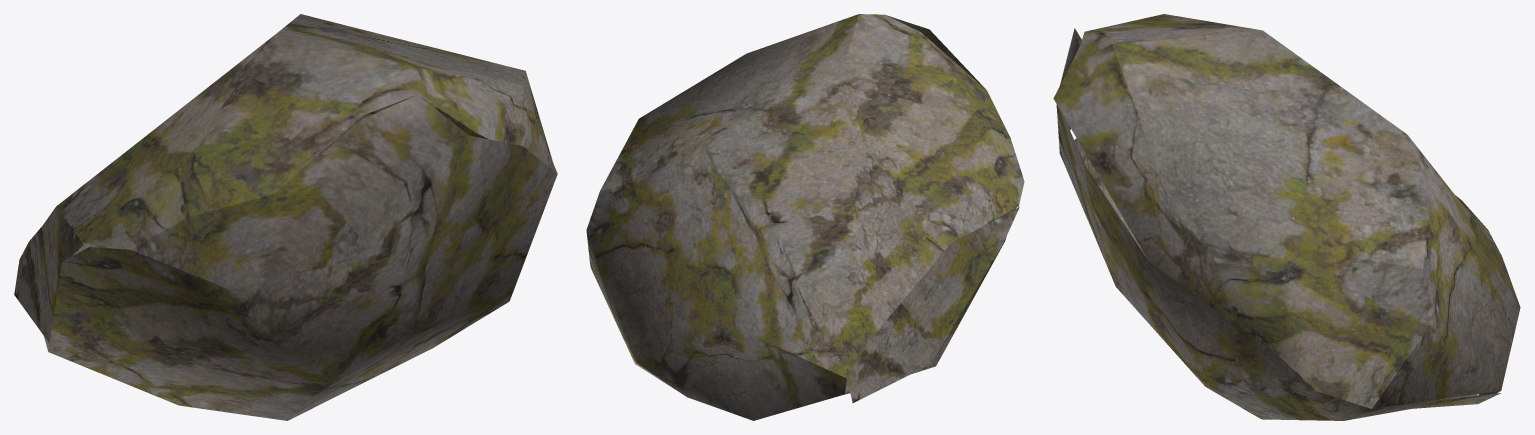
The model's file is rock_003.glb.
3 renders of one model, left to right at view 1: azimuth 30°, elevation 25°; view 2: azimuth 150°, elevation 25°; view 3: azimuth 270°, elevation 25°, orthographic. The views are drawn at different scales.
Parts seen in each view (by area): view 1: rock.003; view 2: rock.003; view 3: rock.003.
Boxes of the visible parts, x1,y1,x2,y2 form: rock.003: (14, 14, 557, 420); rock.003: (586, 14, 1024, 420); rock.003: (1053, 14, 1520, 420).
Size of the model in its own units: 0.7976 by 0.598 by 0.6958.
1 material, 1 textured.
